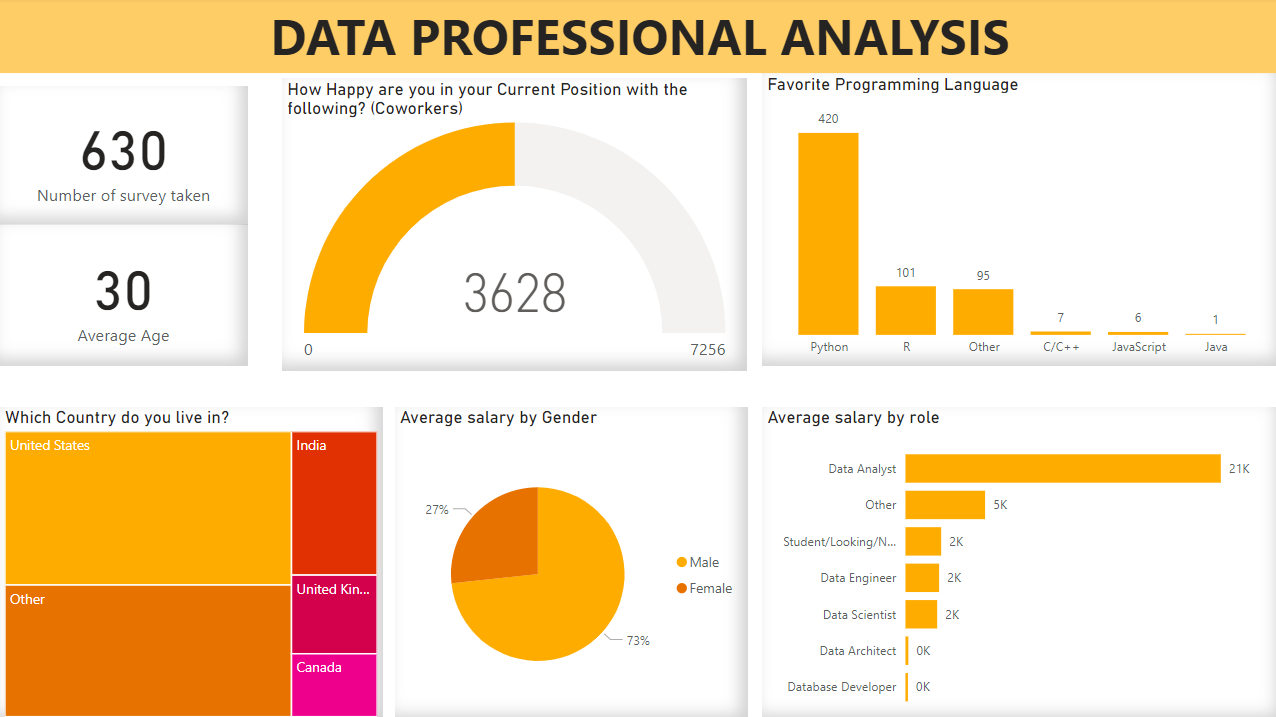

What the dashboard file says about the page in this screenshot:
{"tool":"powerbi","page":{"name":"Page 1","canvas":[1280,720],"ordinal":0},"visuals":[{"type":"card","fields":{"Values":["CountNonNull(Data Professional Survey.Unique ID)"]},"box":[14.7,86.8,242,135.7],"z":0},{"type":"card","fields":{"Values":["Avg(Data Professional Survey.Q10 - Current Age)"]},"box":[14.7,222.5,242,138.1],"z":1000},{"type":"barChart","title":"Average salary by role","fields":{"Category":["Data Professional Survey.Q1 - Which Title Best Fits your Current Role?"],"Y":["Sum(Data Professional Survey.Average salary)"]},"box":[760.3,401,509.7,308],"z":2000},{"type":"treemap","title":"Which Country do you live in?","fields":{"Group":["Data Professional Survey.Q11 - Which Country do you live in?"],"Values":["CountNonNull(Data Professional Survey.Q11 - Which Country do you live in?)"]},"box":[14.7,401,374.1,308],"z":3000},{"type":"clusteredColumnChart","title":"Favorite Programming Language","fields":{"Y":["CountNonNull(Data Professional Survey.Unique ID)"],"Category":["Data Professional Survey.Q5 - Favorite Programming Language"]},"box":[760.3,74.6,509.7,286],"z":4000},{"type":"pieChart","title":"Average salary by Gender","fields":{"Y":["Sum(Data Professional Survey.Average salary)"],"Category":["Data Professional Survey.Q9 - Male/Female?"]},"box":[401,401,344.7,308],"z":5000},{"type":"textbox","box":[1.4,0,1278.6,74.3],"z":6000},{"type":"gauge","title":"How Happy are you in your Current Position with the following? (Coworkers)","fields":{"Y":["Sum(Data Professional Survey.Q6 - How Happy are you in your Current Position with the following? (Coworkers))"]},"box":[290.9,79.5,454.7,286],"z":7000}]}

Visuals, with their boxes in screenshot pixels (x1, y1, x2, y2), scaled from the page's 1280x720 canvas onto the 1276x717 screenshot:
card - CountNonNull(Data Professional Survey.Unique ID): 15, 86, 256, 222
card - Avg(Data Professional Survey.Q10 - Current Age): 15, 222, 256, 359
"Average salary by role" barChart: 758, 399, 1266, 706
"Which Country do you live in?" treemap: 15, 399, 388, 706
"Favorite Programming Language" clusteredColumnChart: 758, 74, 1266, 359
"Average salary by Gender" pieChart: 400, 399, 743, 706
textbox: 1, 0, 1275, 74
"How Happy are you in your Current Position with the following? (Coworkers)" gauge: 290, 79, 743, 364
